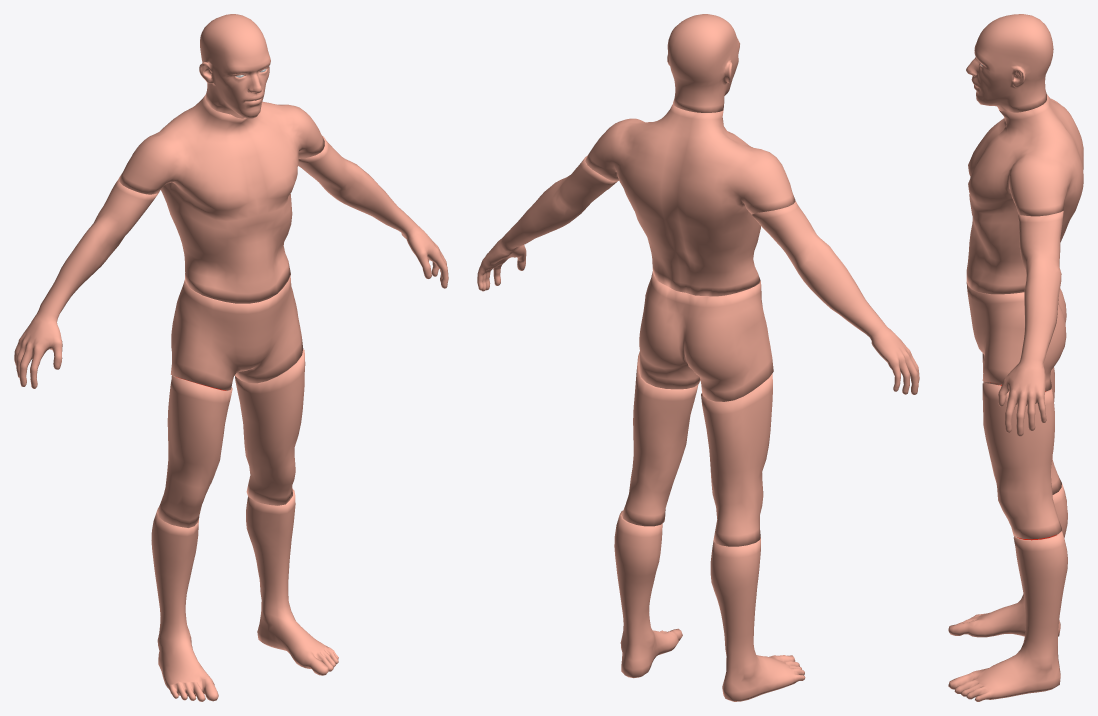
The model's file is BodyParts.fbx.
The picture shows the model from 3 angles, left to right: view 1: azimuth 30°, elevation 25°; view 2: azimuth 150°, elevation 25°; view 3: azimuth 270°, elevation 25°; orthographic projection. The views are drawn at different scales.
Visible parts, largest first — view 1: Torso, Pelvis, RightThigh, LeftThigh, RightArm, LeftFoot, RightFoot, Head, LeftArm; view 2: Torso, Pelvis, RightThigh, RightArm, RightFoot, LeftThigh, LeftFoot, Head, LeftArm; view 3: Torso, LeftFoot, LeftThigh, LeftArm, Head, Pelvis, RightFoot, RightThigh.
Boxes of the visible parts, bbox=[...] form: Torso: bbox=[119, 95, 324, 303]; Pelvis: bbox=[170, 276, 303, 390]; RightThigh: bbox=[156, 375, 232, 527]; LeftThigh: bbox=[234, 349, 305, 505]; RightArm: bbox=[14, 179, 158, 388]; LeftFoot: bbox=[246, 488, 338, 675]; RightFoot: bbox=[151, 509, 218, 701]; Head: bbox=[199, 14, 270, 118]; LeftArm: bbox=[298, 135, 448, 288]; Torso: bbox=[585, 104, 795, 296]; Pelvis: bbox=[638, 271, 773, 401]; RightThigh: bbox=[701, 373, 772, 546]; RightArm: bbox=[752, 201, 919, 394]; RightFoot: bbox=[710, 537, 805, 701]; LeftThigh: bbox=[621, 351, 698, 526]; LeftFoot: bbox=[614, 510, 682, 678]; Head: bbox=[667, 14, 739, 112]; LeftArm: bbox=[477, 156, 617, 291]; Torso: bbox=[966, 94, 1083, 294]; LeftFoot: bbox=[948, 531, 1067, 701]; LeftThigh: bbox=[982, 383, 1061, 539]; LeftArm: bbox=[998, 211, 1063, 436]; Head: bbox=[966, 14, 1053, 112]; Pelvis: bbox=[966, 282, 1066, 391]; RightFoot: bbox=[948, 483, 1067, 637]; RightThigh: bbox=[982, 353, 1061, 494].
Size of the model in its own units: 139 by 202 by 38.38.
